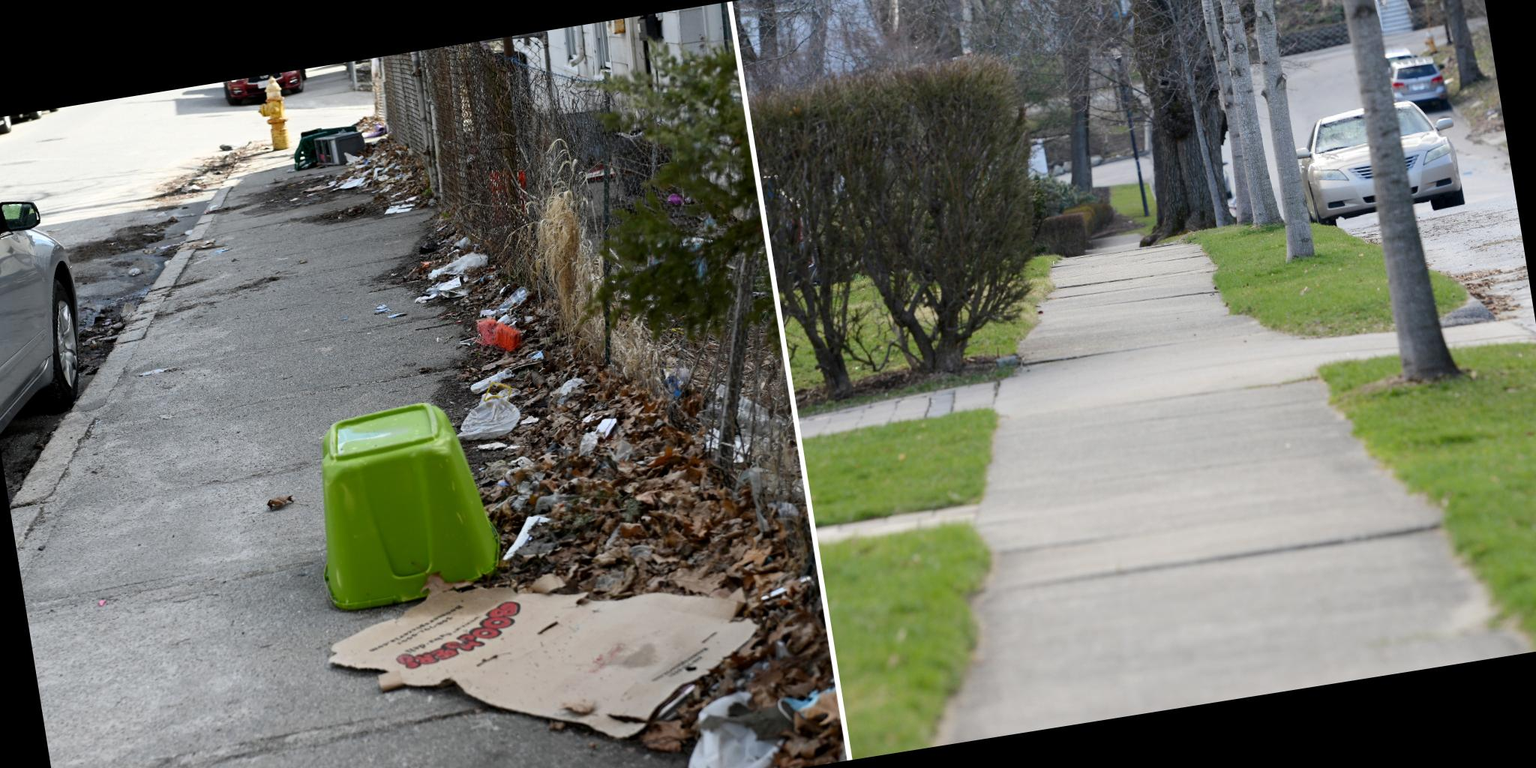pavement: (10, 154, 683, 768), (939, 240, 1527, 742)
road: (0, 82, 269, 245), (285, 64, 372, 131)
